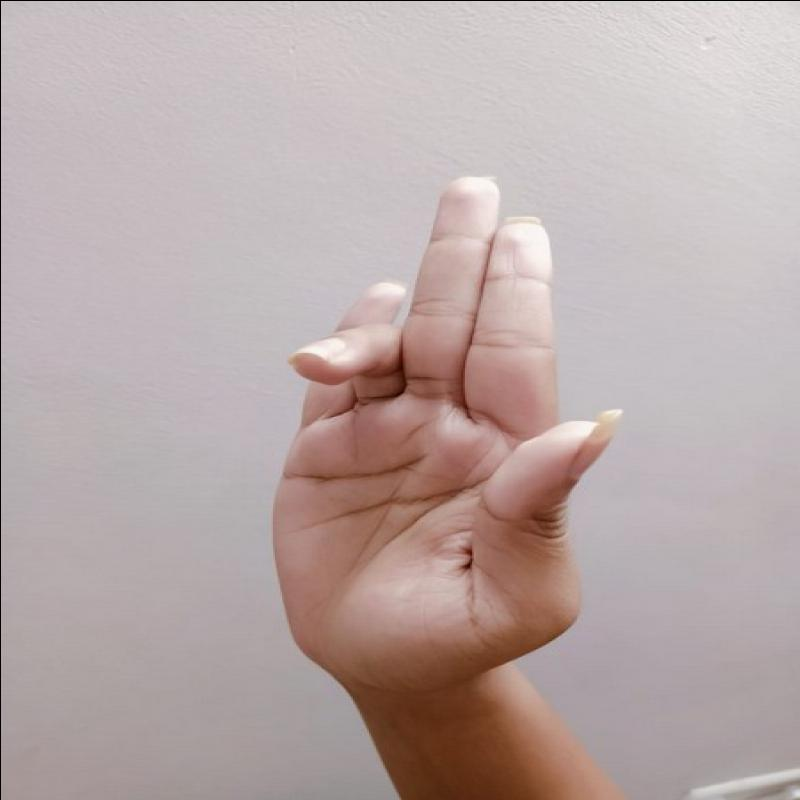Pathaaka: (237, 160, 636, 709)
